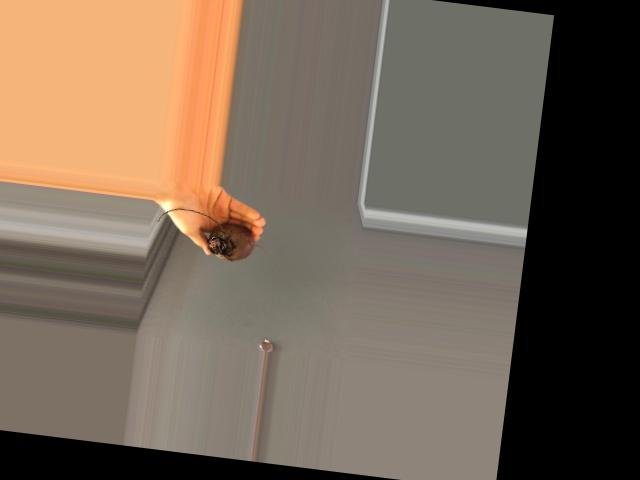beet: (155, 205, 270, 264)
